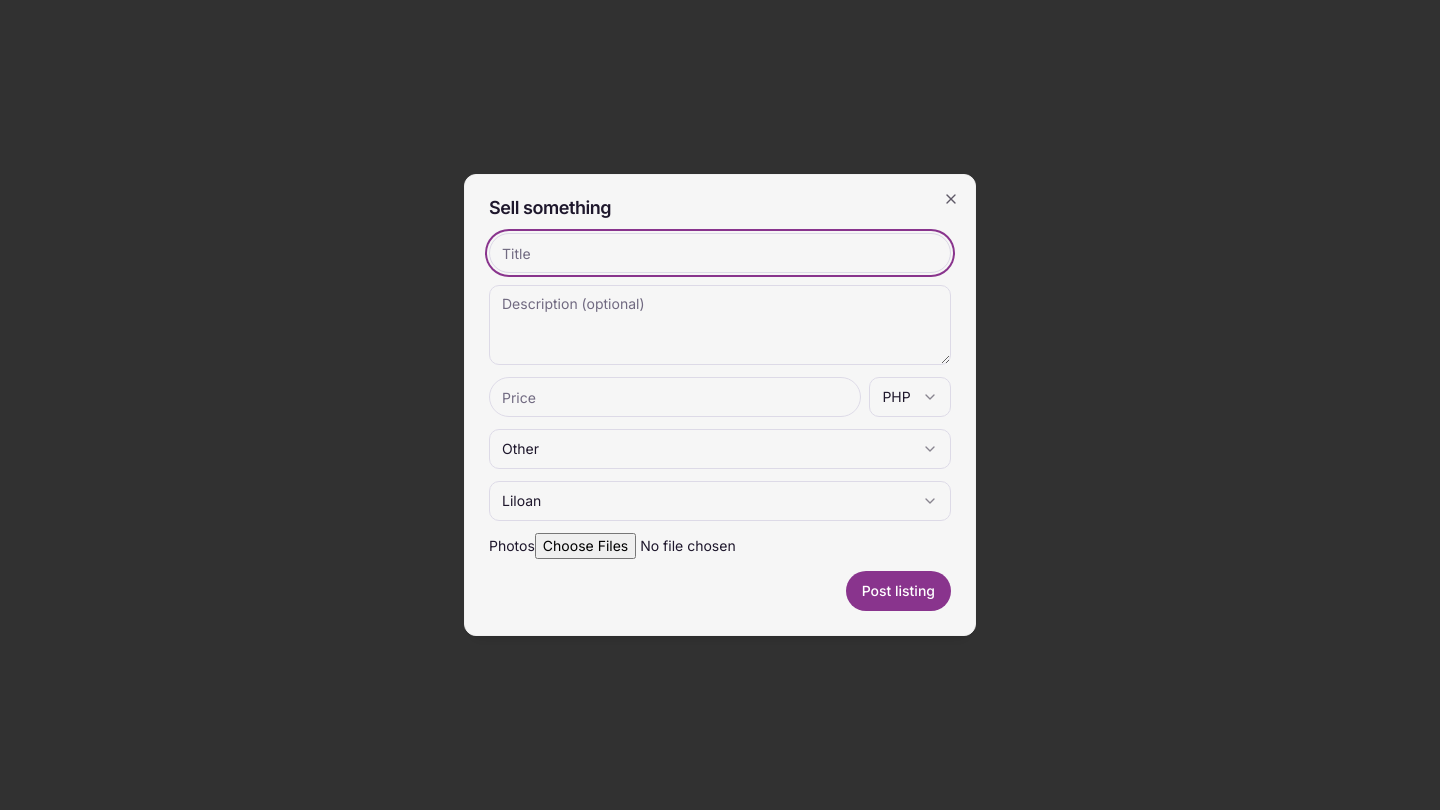
it: CreateListingDialog › shows an error message when creating the listing fails
Type "Headphones" into the field with placeholder "Title". click: (720, 253)
box: [489,233,951,273]
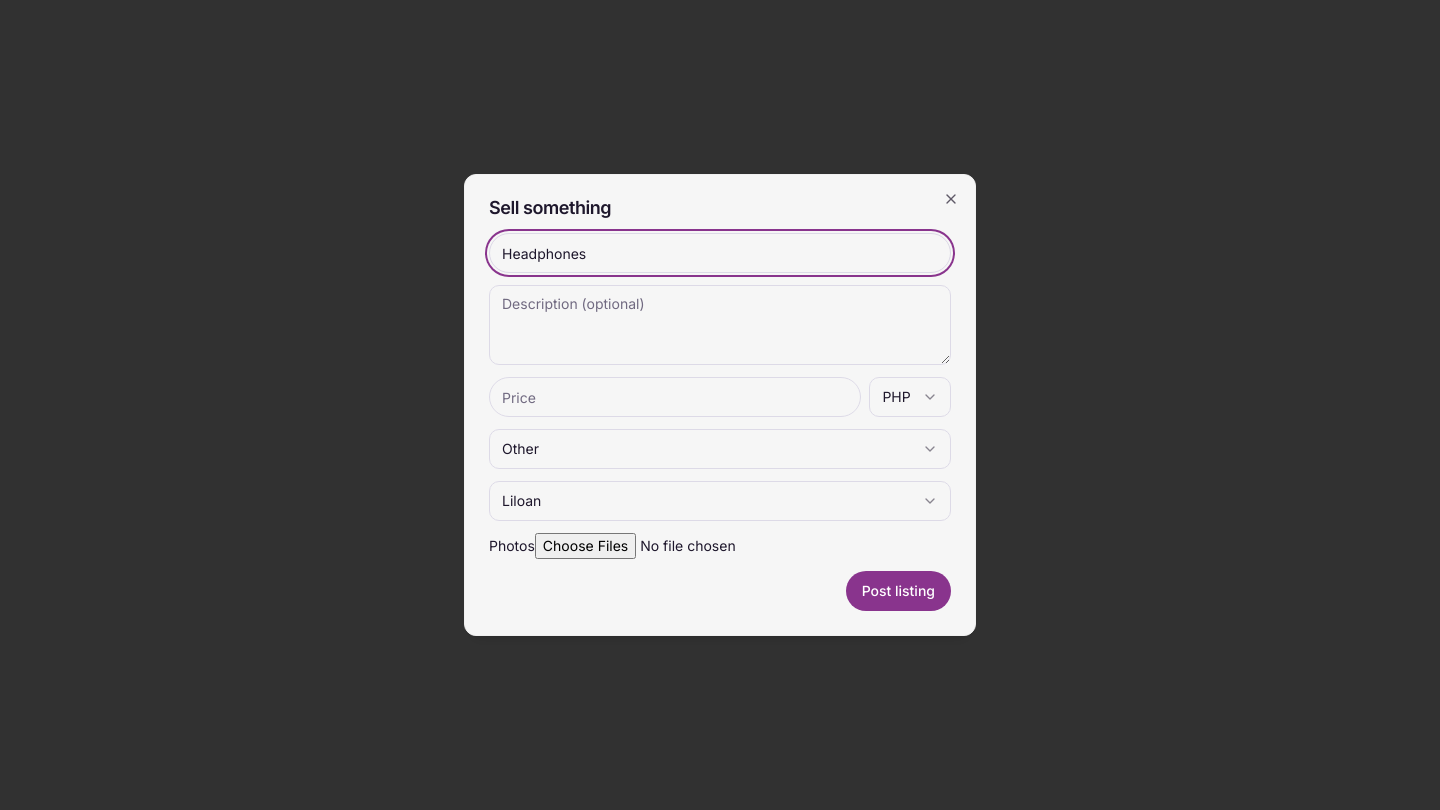
Type "2500" into the number field with placeholder "Price". click: (675, 397)
box: [489,377,861,417]
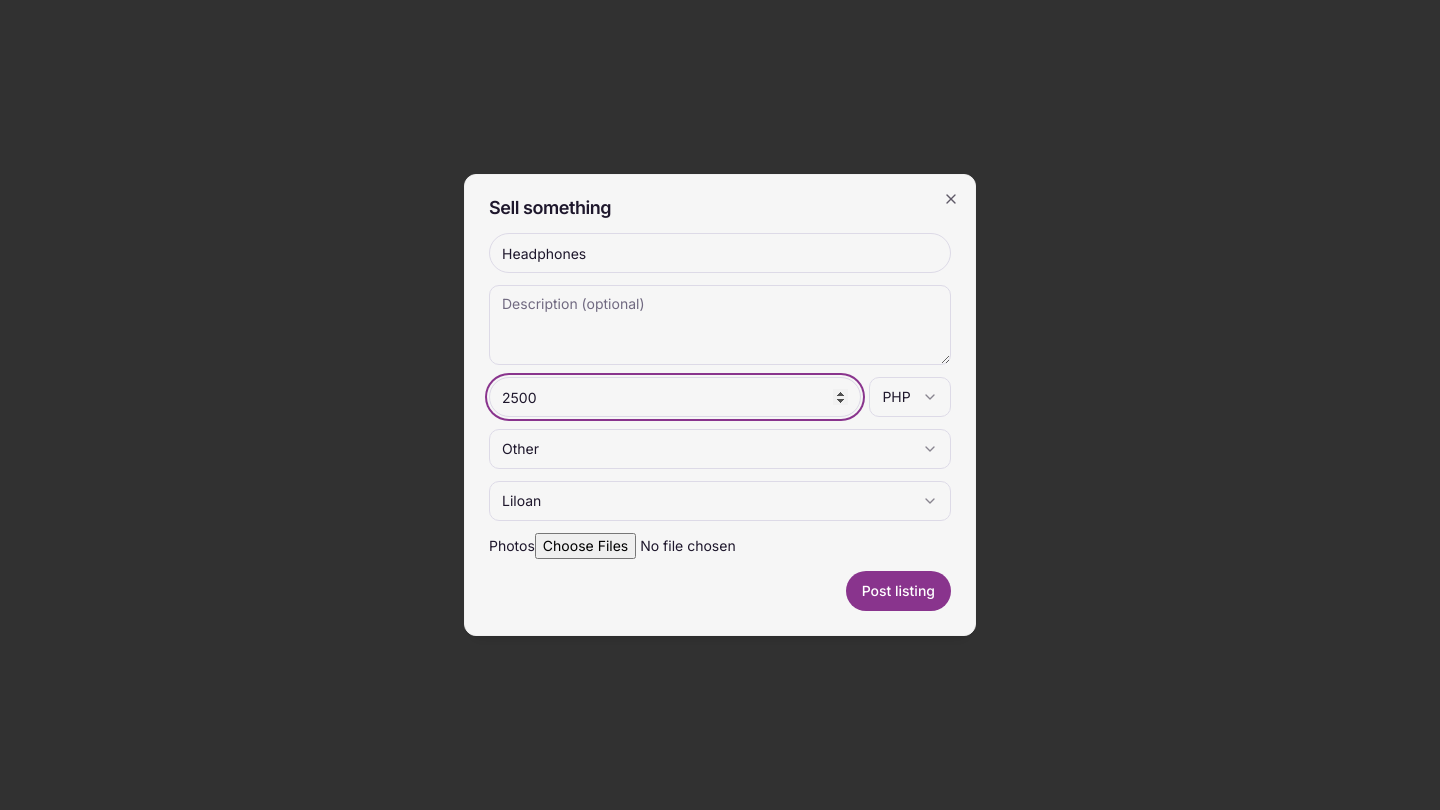
Click the button "Post listing". click: (898, 591)
box: [846,571,951,611]
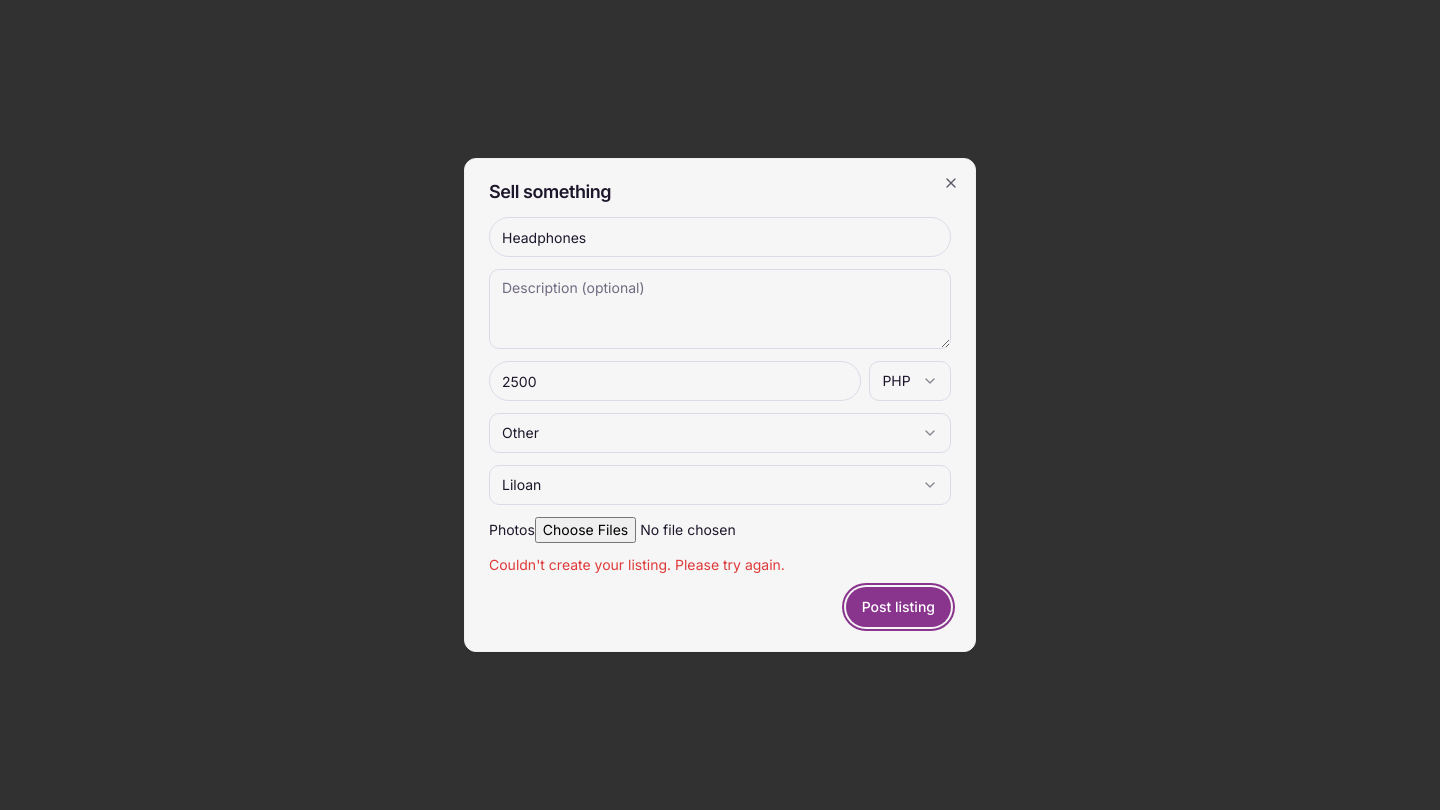
Check: the text "Couldn't create your listing. Please try again." is shown, box [489,556,785,573]
